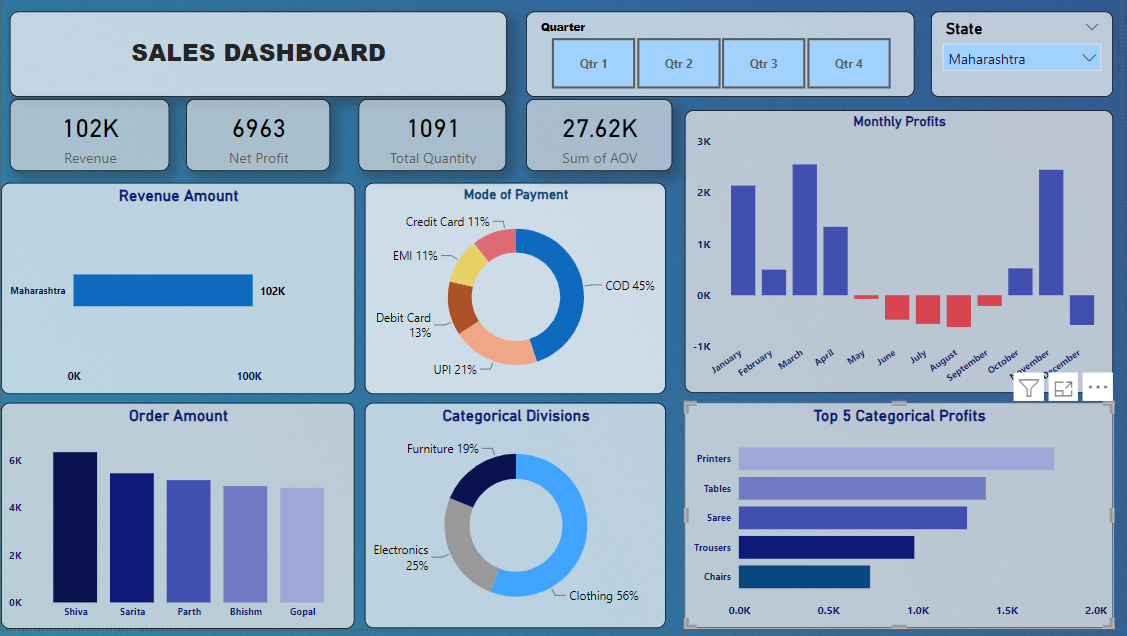

The dashboard page shown, as its layout file describes it:
{"tool":"powerbi","page":{"name":"Page 1","canvas":[1280,720],"ordinal":0},"visuals":[{"type":"textbox","box":[9.6,13.7,567.6,97.3],"z":0},{"type":"columnChart","title":"Monthly Profits","fields":{"Y":["Details.Profit"],"Category":["Orders.Order Date.Variation.Date Hierarchy.Month"]},"box":[781.5,127.5,489.5,323.6],"z":1000},{"type":"barChart","title":"Top 5 Categorical Profits","fields":{"Category":["Details.Sub-Category"],"Y":["Details.Profit"]},"box":[781.5,462,489.5,257.8],"z":2000},{"type":"donutChart","title":"Categorical Divisions","fields":{"Category":["Details.Category"],"Y":["Details.Quantity"]},"box":[415.4,462,344.1,257.8],"z":3000},{"type":"donutChart","title":"Mode of Payment","fields":{"Y":["Details.Quantity"],"Category":["Details.PaymentMode"]},"box":[415.4,209.8,344.1,241.3],"z":4000},{"type":"card","fields":{"Values":["Details.Amount"]},"box":[9.6,113.8,182.3,82.3],"z":5000},{"type":"card","fields":{"Values":["Details.Profit"]},"box":[211.1,113.8,164.5,82.3],"z":6000},{"type":"card","fields":{"Values":["Details.Quantity"]},"box":[408.6,113.8,168.6,82.3],"z":7000},{"type":"card","fields":{"Values":["Details.AOV"]},"box":[600.5,113.8,167.3,82.3],"z":8000},{"type":"barChart","title":"Revenue Amount","fields":{"Category":["Orders.State"],"Y":["Details.Amount"]},"box":[0,209.8,404.5,241.3],"z":9000},{"type":"columnChart","title":"Order Amount","fields":{"Category":["Orders.CustomerName"],"Y":["Details.Amount"]},"box":[0,461.4,404.3,258.6],"z":10000},{"type":"slicer","fields":{"Values":["Orders.Order Date.Variation.Date Hierarchy.Quarter"]},"box":[600.5,13.7,444.2,97.3],"z":11000},{"type":"slicer","fields":{"Values":["Orders.State"]},"box":[1062.6,13.7,208.4,97.3],"z":12000}]}

Visuals, with their boxes in screenshot pixels (x1, y1, x2, y2), scaled from the page's 1280x720 canvas onto the 1127x636 screenshot:
textbox: bbox=[8, 12, 508, 98]
"Monthly Profits" columnChart: bbox=[688, 113, 1119, 398]
"Top 5 Categorical Profits" barChart: bbox=[688, 408, 1119, 635]
"Categorical Divisions" donutChart: bbox=[366, 408, 669, 635]
"Mode of Payment" donutChart: bbox=[366, 185, 669, 398]
card - Details.Amount: bbox=[8, 101, 169, 173]
card - Details.Profit: bbox=[186, 101, 331, 173]
card - Details.Quantity: bbox=[360, 101, 508, 173]
card - Details.AOV: bbox=[529, 101, 676, 173]
"Revenue Amount" barChart: bbox=[0, 185, 356, 398]
"Order Amount" columnChart: bbox=[0, 408, 356, 635]
slicer - Orders.Order Date.Variation.Date Hierarchy.Quarter: bbox=[529, 12, 920, 98]
slicer - Orders.State: bbox=[936, 12, 1119, 98]
